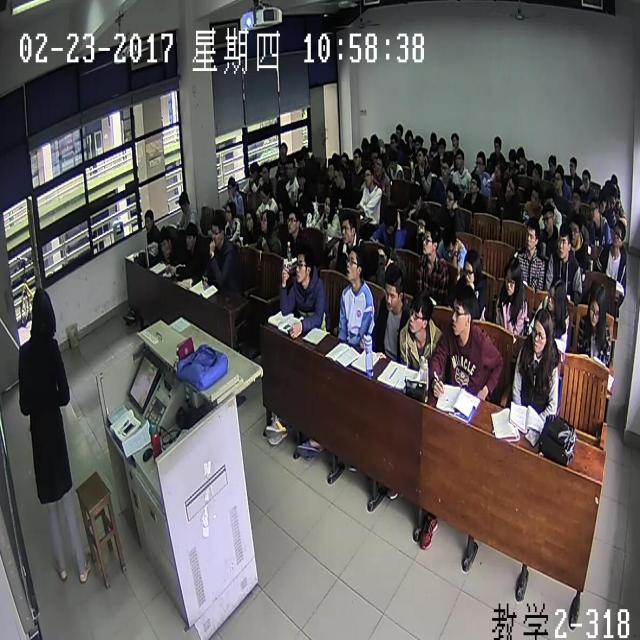person: (382, 261, 403, 313), (32, 290, 54, 336), (451, 288, 471, 334), (408, 292, 432, 329), (547, 276, 565, 321), (504, 256, 522, 296), (530, 311, 548, 351), (585, 289, 603, 326), (462, 248, 480, 284), (538, 204, 554, 243), (554, 226, 570, 263), (296, 246, 312, 282), (345, 250, 363, 282), (422, 222, 440, 253), (362, 247, 379, 279), (415, 207, 431, 239), (441, 220, 454, 256), (525, 216, 539, 248), (341, 216, 355, 246), (611, 218, 626, 246), (158, 227, 172, 256), (211, 217, 225, 246), (287, 206, 299, 239), (384, 204, 396, 232), (505, 174, 517, 202), (321, 194, 334, 219), (248, 160, 260, 187), (446, 183, 458, 209), (184, 226, 198, 248), (274, 189, 288, 211), (178, 188, 189, 215), (409, 184, 421, 208), (338, 150, 351, 172), (569, 220, 580, 246), (259, 210, 271, 233), (440, 154, 452, 177), (580, 168, 592, 191), (589, 195, 599, 222), (474, 150, 486, 172), (492, 160, 504, 182), (528, 187, 540, 209), (276, 163, 287, 186), (415, 147, 427, 168), (144, 208, 155, 230), (224, 202, 235, 222), (403, 128, 414, 148), (335, 173, 347, 191), (374, 156, 386, 174), (469, 173, 479, 194), (532, 162, 542, 183), (552, 173, 561, 196), (259, 184, 269, 204), (492, 134, 502, 154), (555, 162, 565, 182), (262, 160, 271, 182), (393, 122, 402, 144), (414, 134, 425, 152), (506, 145, 517, 163), (227, 172, 235, 196), (598, 195, 607, 216), (388, 154, 399, 171), (246, 209, 254, 232), (286, 162, 296, 180), (352, 145, 361, 165), (454, 148, 464, 166), (279, 139, 287, 161), (449, 130, 458, 148), (549, 151, 558, 169), (327, 162, 335, 182), (295, 151, 304, 167), (370, 130, 378, 148), (571, 190, 579, 208), (360, 135, 369, 151), (364, 168, 372, 184), (568, 156, 576, 172), (389, 131, 396, 149), (608, 174, 616, 189), (610, 192, 616, 211), (438, 136, 444, 154), (516, 145, 524, 158), (430, 129, 435, 147)
